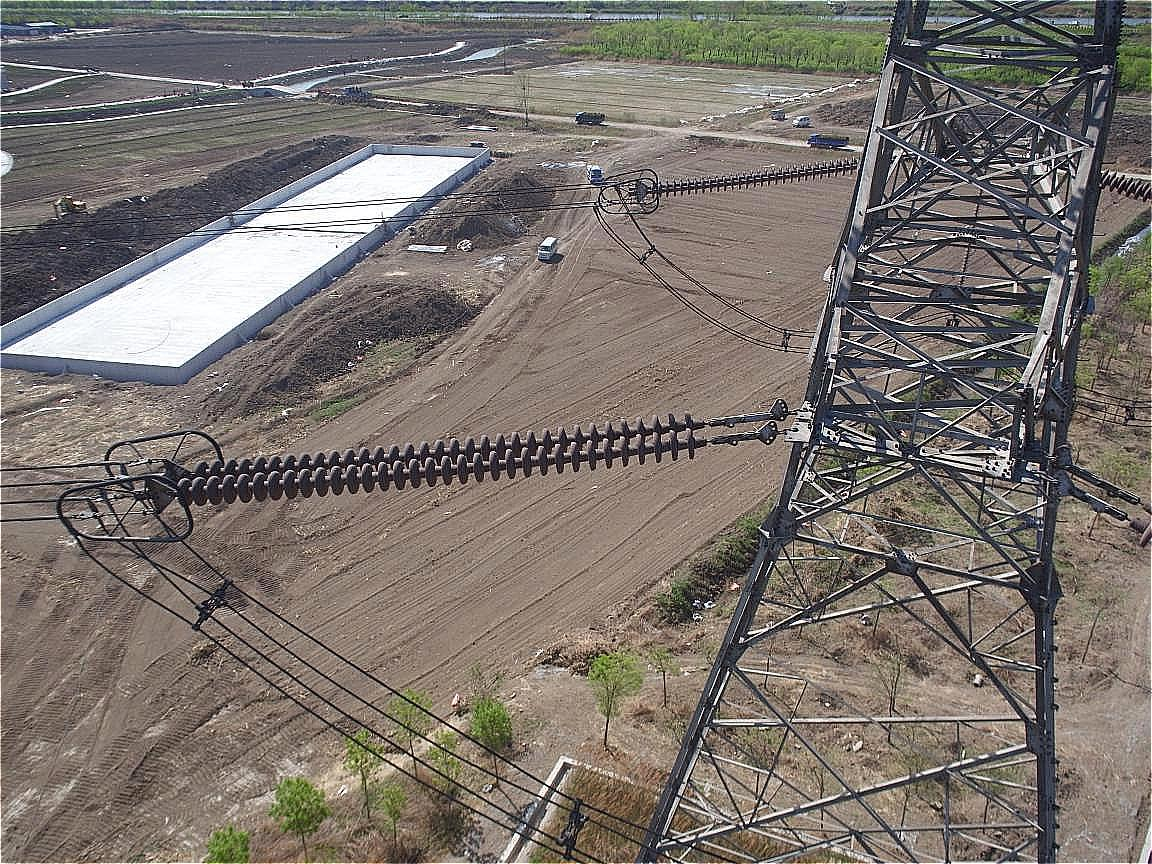insultor1: (177, 411, 698, 508), (653, 156, 857, 200)
